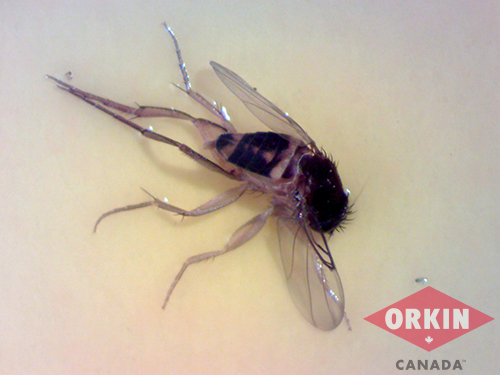phorid fly: (28, 2, 360, 344)
